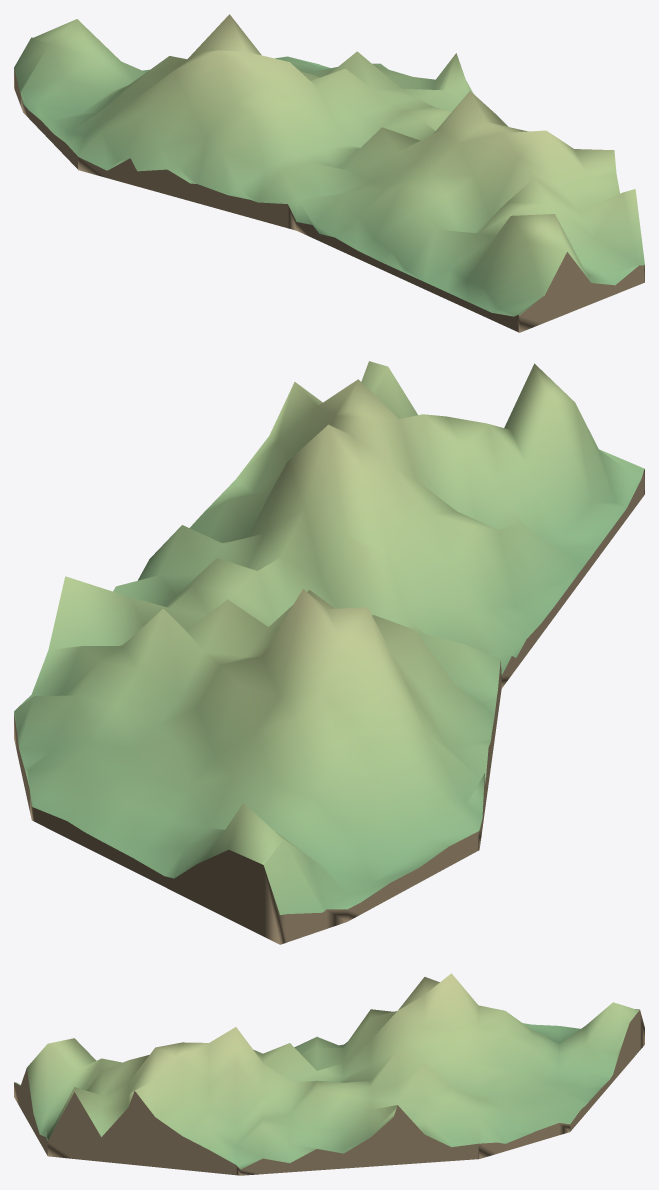
The model's file is DMA.glb.
3 renders of one model, top to bottom at view 1: azimuth 30°, elevation 25°; view 2: azimuth 150°, elevation 25°; view 3: azimuth 270°, elevation 25°, orthographic. The views are drawn at different scales.
Parts seen in each view (by area): view 1: DMA; view 2: DMA; view 3: DMA.
Part boxes in pixels (x1=…): DMA: x1=14, y1=14, x2=644, y2=332; DMA: x1=14, y1=361, x2=644, y2=944; DMA: x1=14, y1=973, x2=644, y2=1175.
Bounding box in the file's own units: 0.9414 × 0.338 × 1.72.
